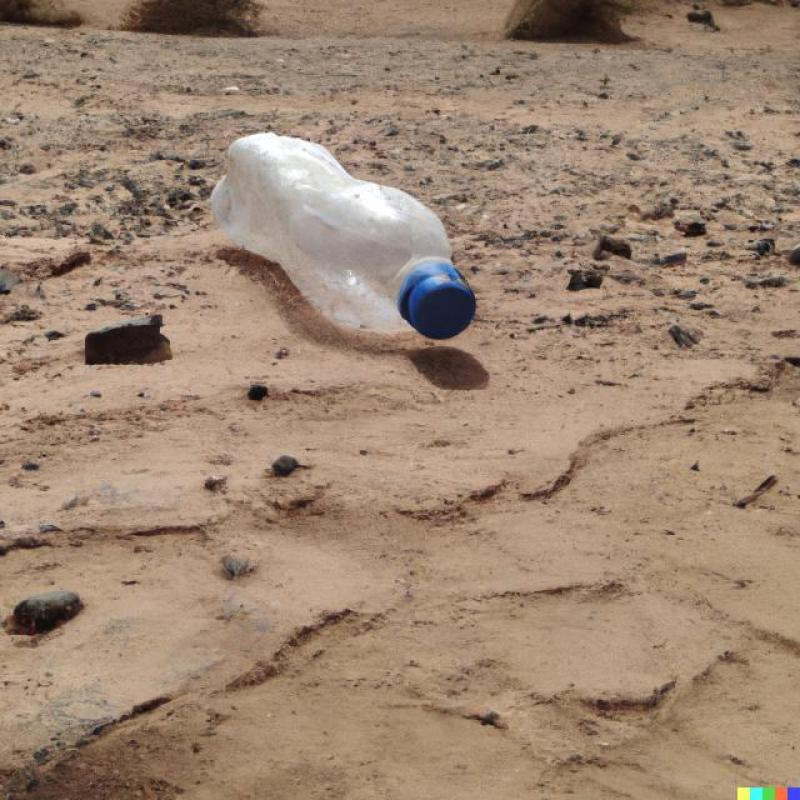botella: (209, 129, 476, 341)
